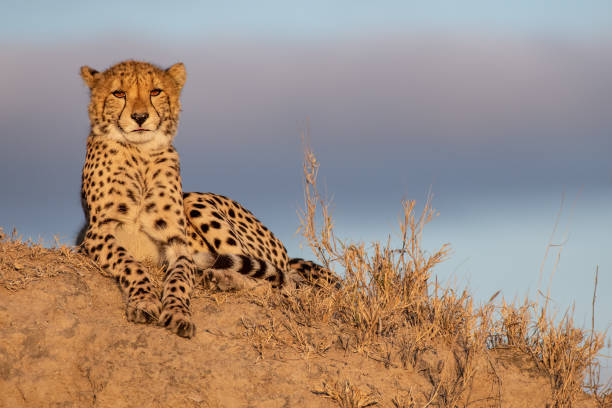cheetah: (73, 54, 202, 150)
